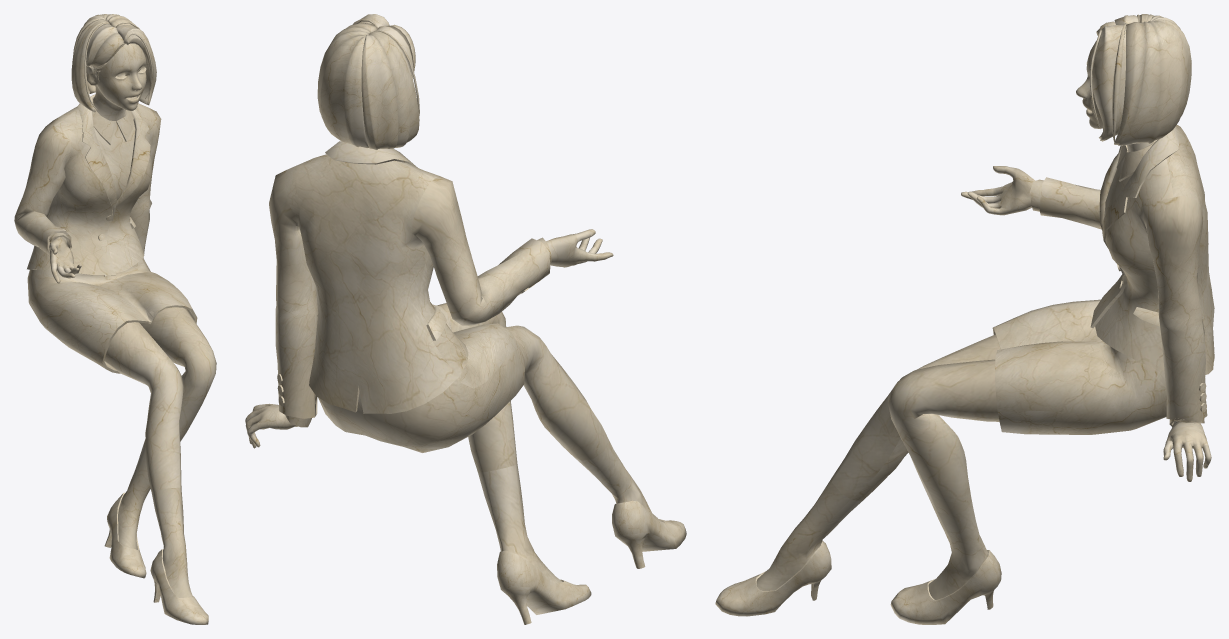
File: Sample_Avatar_W_Sit_004.fbx
The picture shows the model from 3 angles, left to right: view 1: azimuth 30°, elevation 25°; view 2: azimuth 150°, elevation 25°; view 3: azimuth 270°, elevation 25°; orthographic projection. The views are drawn at different scales.
Visible parts, largest first — view 1: Sample_Avatar_W_Sit_004; view 2: Sample_Avatar_W_Sit_004; view 3: Sample_Avatar_W_Sit_004.
Part boxes in pixels (x1,y1,x2,y2): Sample_Avatar_W_Sit_004: (14, 14, 216, 624); Sample_Avatar_W_Sit_004: (245, 14, 686, 624); Sample_Avatar_W_Sit_004: (715, 14, 1214, 624).
Bounding box in the file's own units: 0.5456 × 1.31 × 0.9259.
